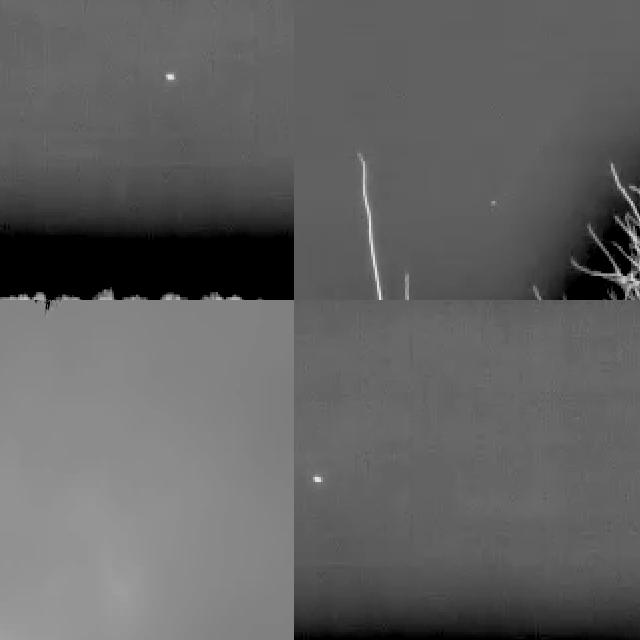0: (478, 197, 502, 217)
1: (154, 67, 180, 92), (302, 470, 328, 494)
drone: (27, 300, 65, 312)
